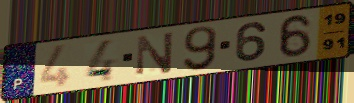4: (37, 42, 75, 90), (81, 38, 120, 83)
6: (277, 13, 314, 61), (235, 21, 270, 64)
9: (182, 24, 219, 72)
N: (135, 29, 176, 77)
